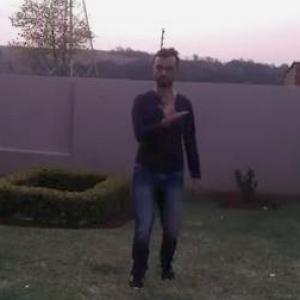follow_hand: (154, 88, 189, 124)
